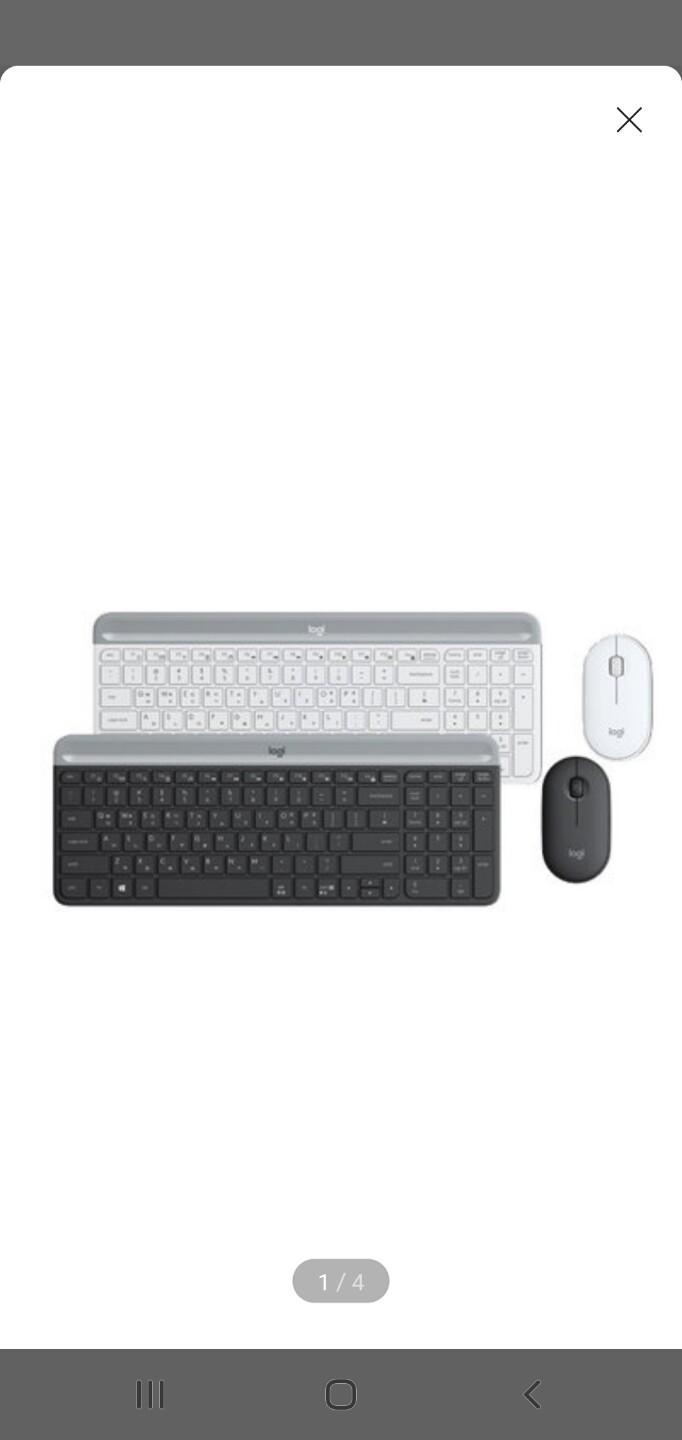keyboard: (51, 734, 501, 907), (91, 609, 542, 779)
mouse: (539, 755, 611, 883), (581, 632, 653, 759)
